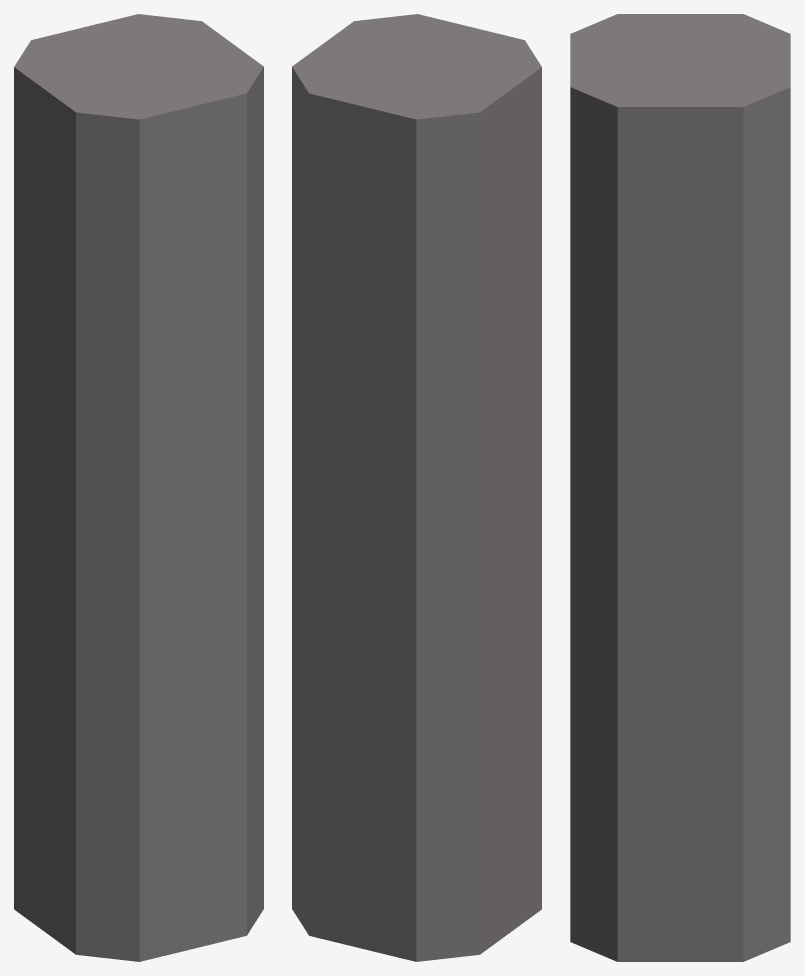
File: scifi-pillar.glb
3 views of the same model, side by side, from view 1: azimuth 30°, elevation 25°; view 2: azimuth 150°, elevation 25°; view 3: azimuth 270°, elevation 25° (orthographic).
Parts seen in each view (by area): view 1: scifi-pillar; view 2: scifi-pillar; view 3: scifi-pillar.
Boxes of the visible parts, x1,y1,x2,y2 form: scifi-pillar: [14, 14, 263, 961]; scifi-pillar: [292, 14, 541, 961]; scifi-pillar: [570, 14, 790, 961].
Size of the model in its own units: 0.7003 by 3 by 0.7003.
1 material, 1 textured.
